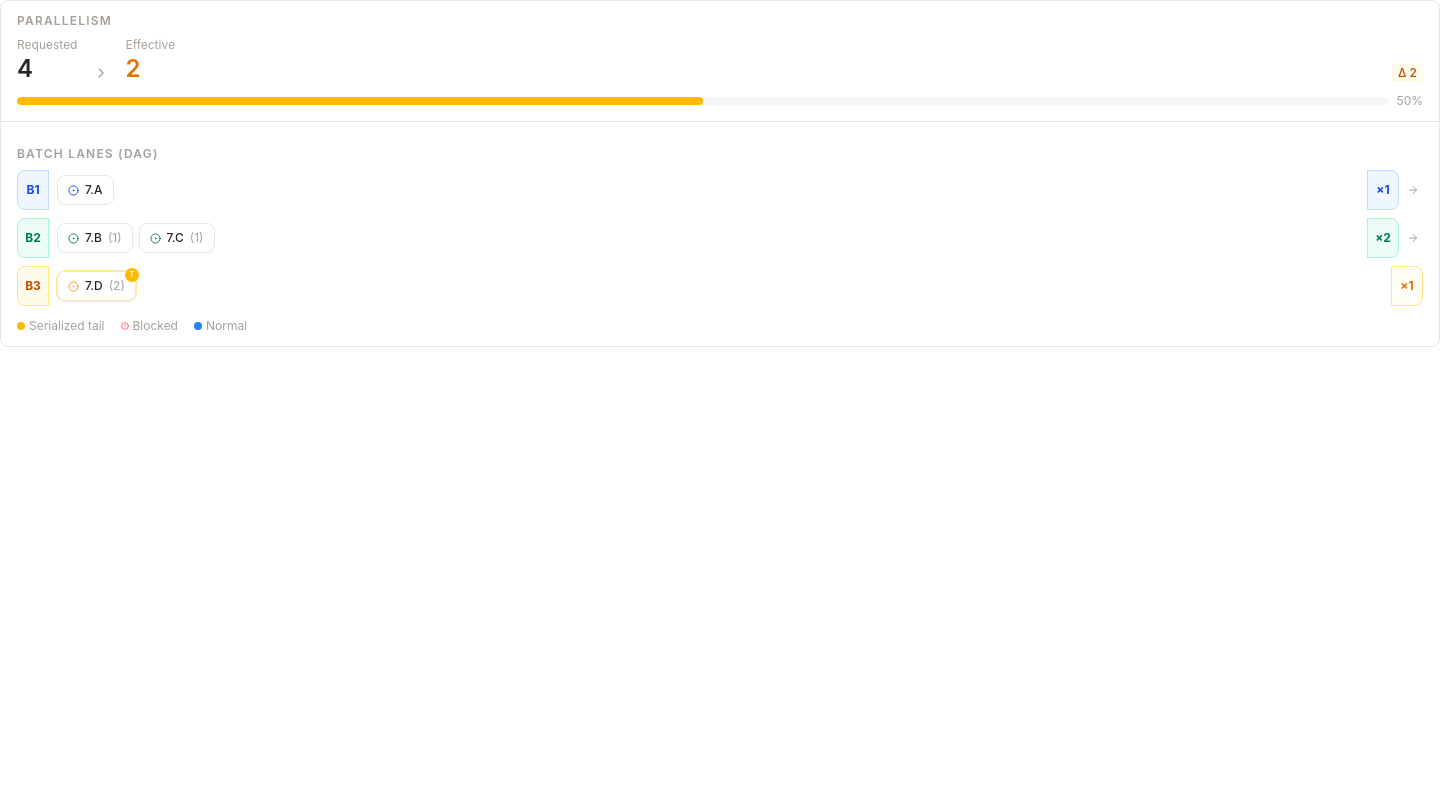
Test: AC 3: Allows dependency editing with preview-before-save › allows removing individual pending edits
What coordinates should you click on to do the following:
click the text "7.D"
I would click on:
 (94, 286)
Its box is [85,278,103,294].
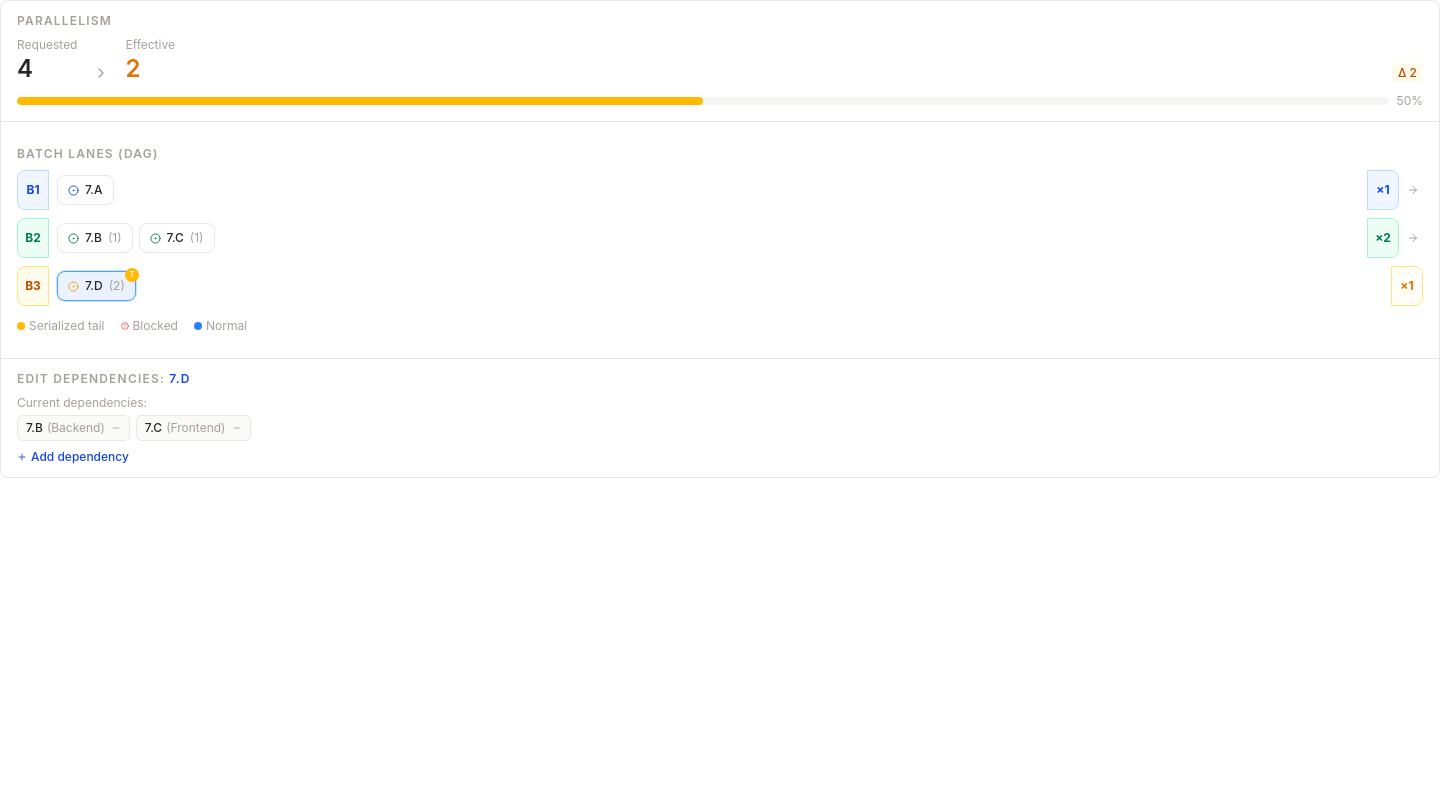
What coordinates should you click on to do the following:
click the button titled "Remove dependency" next to "Backend"
I would click on:
 (116, 428)
Its box is [111,423,121,433].
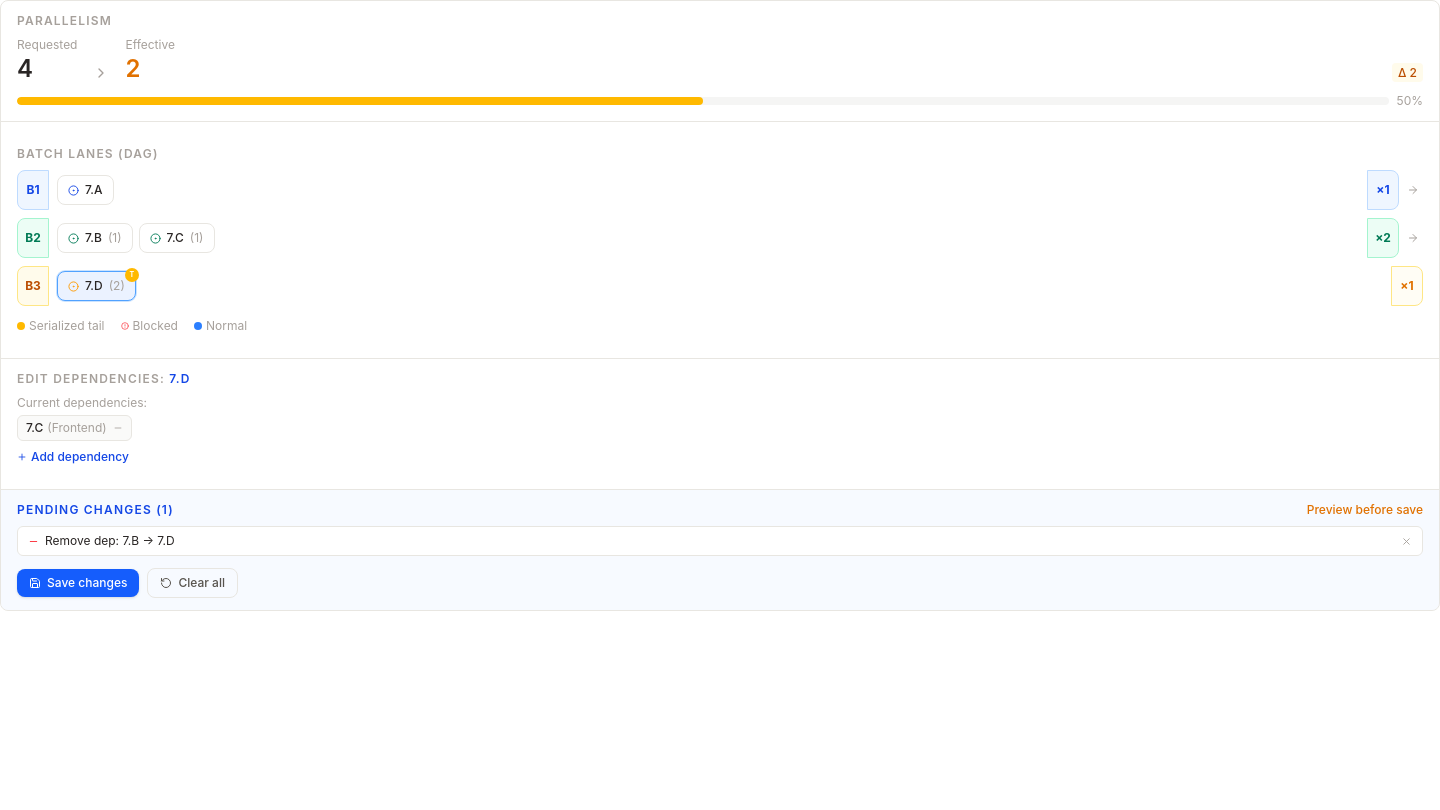
Check: the heading "Pending Changes (1)" is shown, box [17,502,174,518]
What coordinates should you click on to do the following:
click the button titled "Remove this change"
I would click on:
 (1406, 541)
Its box is [1401,536,1412,546].
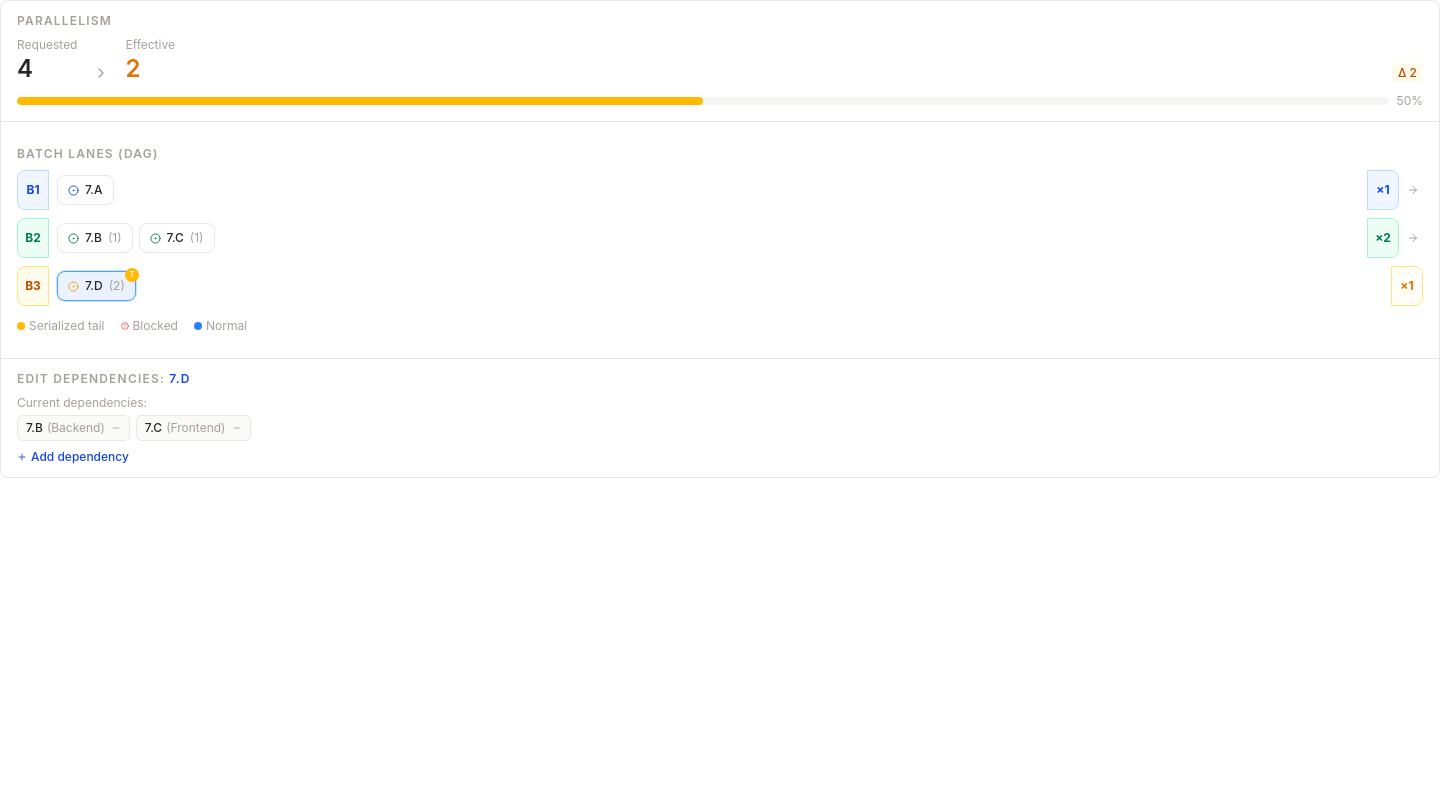
Check: the heading "Pending Changes" is gone
